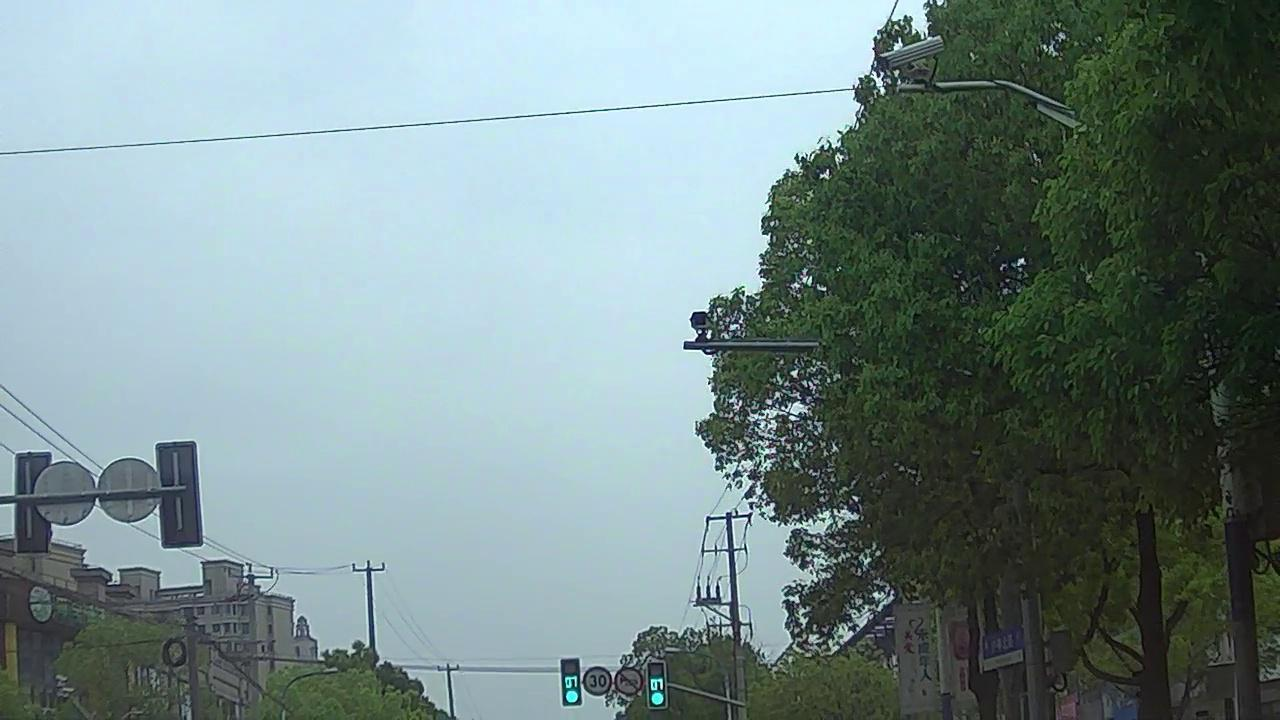traffic_light: (563, 658, 584, 705), (649, 661, 665, 708)
